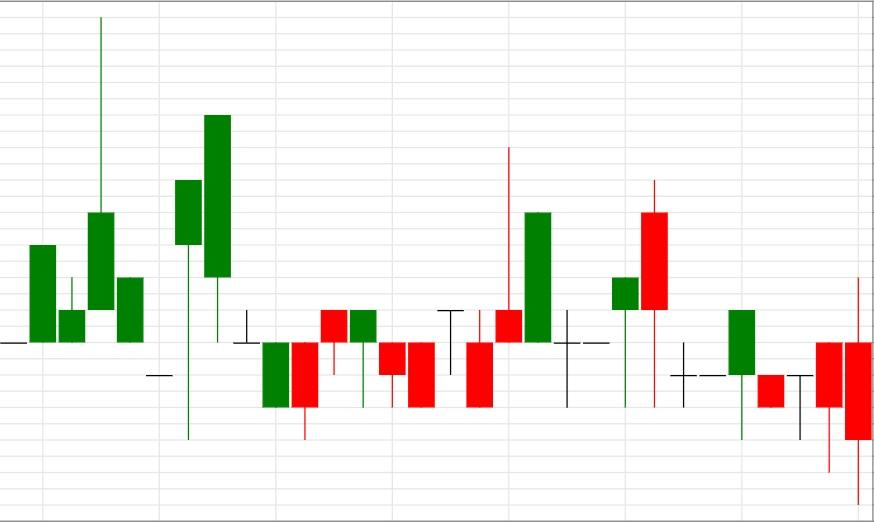bearish_engulfing_fall: (262, 309, 377, 440)
